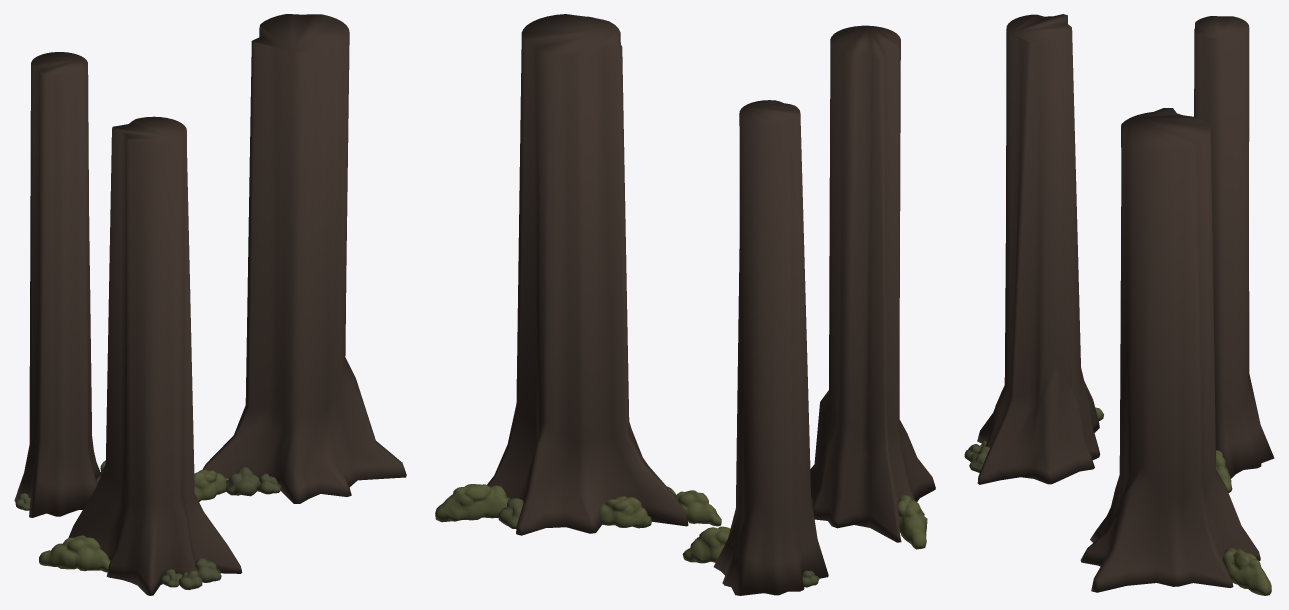
File: conjunto_arvores_e_arbustos02.fbx
The picture shows the model from 3 angles, left to right: view 1: azimuth 30°, elevation 25°; view 2: azimuth 150°, elevation 25°; view 3: azimuth 270°, elevation 25°; orthographic projection. The views are drawn at different scales.
Visible parts, largest first — view 1: arbusto_P_1.001, tronco02.004, tronco02.001; view 2: arbusto_P_1.001, tronco02.004, tronco02.001; view 3: arbusto_P_1.001, tronco02.004, tronco02.001.
Boxes of the visible parts, box(x1,y1,x2,y2) form: arbusto_P_1.001: box(194, 14, 406, 503); tronco02.004: box(39, 116, 242, 595); tronco02.001: box(14, 52, 105, 517); arbusto_P_1.001: box(435, 14, 721, 535); tronco02.004: box(810, 25, 935, 549); tronco02.001: box(682, 100, 828, 595); arbusto_P_1.001: box(1080, 108, 1271, 595); tronco02.004: box(964, 14, 1103, 484); tronco02.001: box(1194, 16, 1274, 492).
Bounding box in the file's own units: 6579 × 9071 × 10095.
